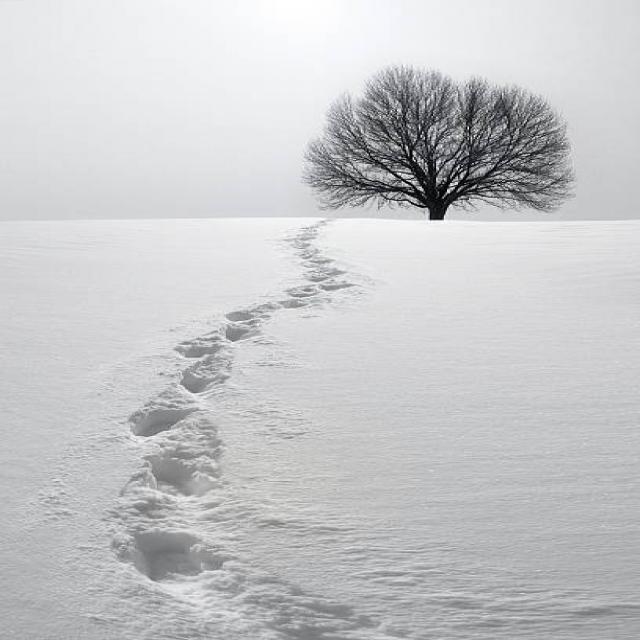tree: (313, 58, 579, 230)
